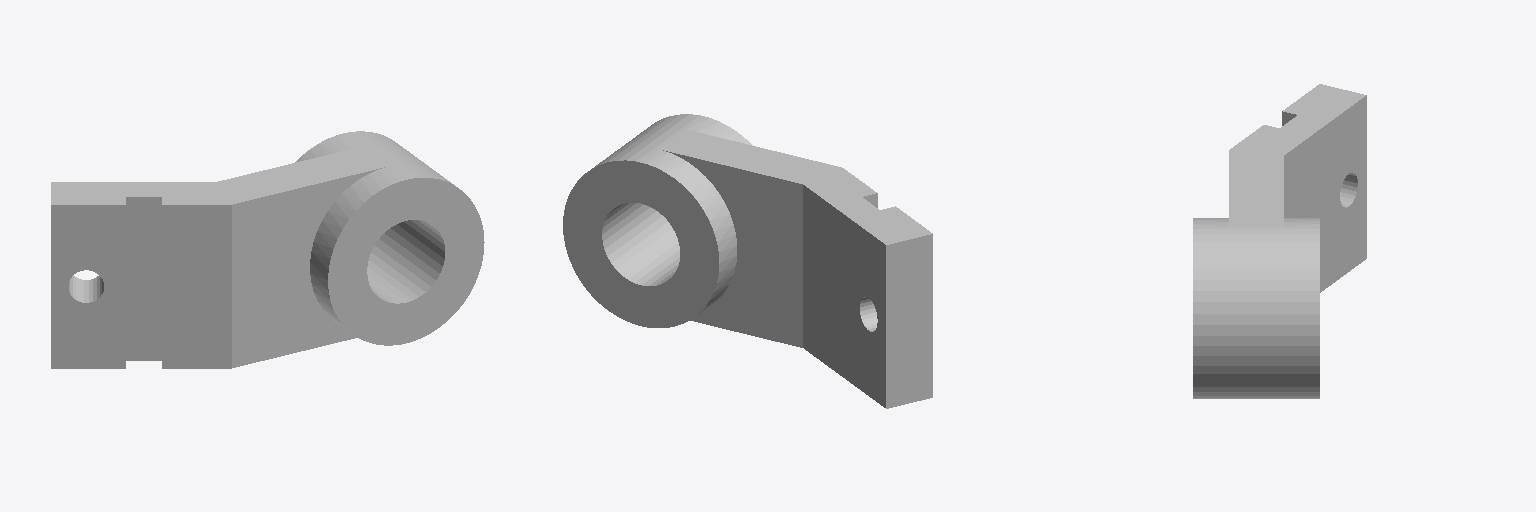
The model's file is Guide.obj.
3 renders of one model, left to right at view 1: azimuth 30°, elevation 25°; view 2: azimuth 150°, elevation 25°; view 3: azimuth 270°, elevation 25°, orthographic.
Parts seen in each view (by area): view 1: Guide; view 2: Guide; view 3: Guide.
Part boxes in pixels (left/top/right/bottom): Guide: left=51, top=131, right=484, bottom=368; Guide: left=563, top=114, right=932, bottom=408; Guide: left=1193, top=84, right=1366, bottom=398.
Bounding box in the file's own units: 0.1183 × 0.05 × 0.048.